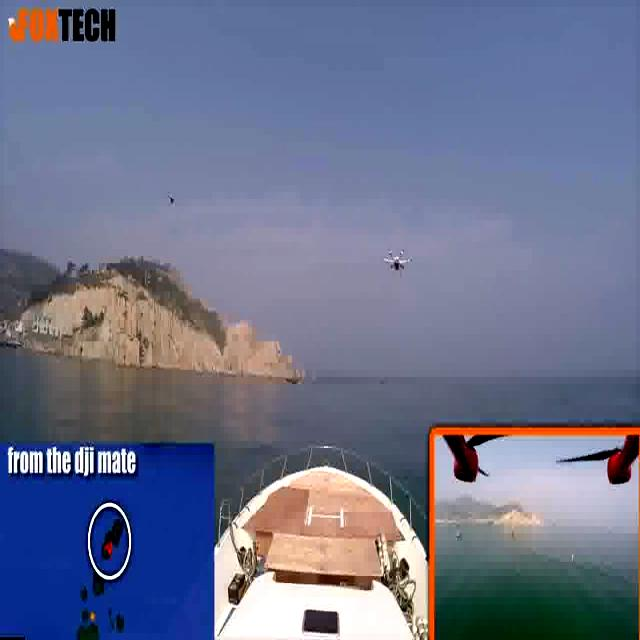drone: (384, 249, 412, 276)
